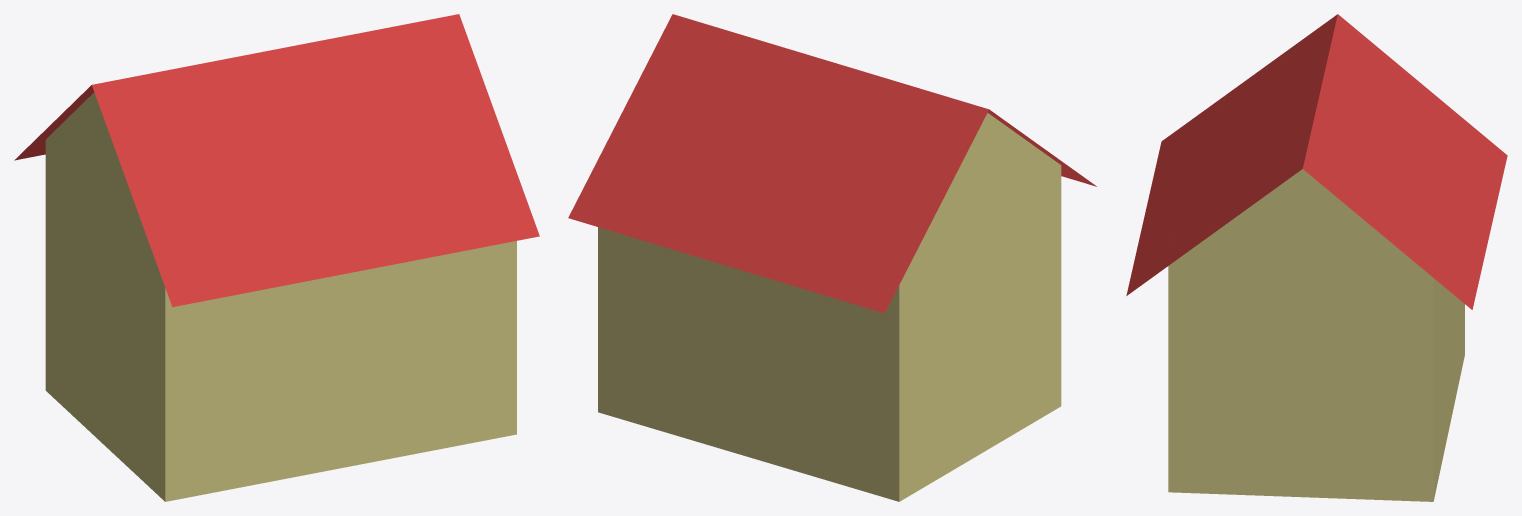
The picture shows the model from 3 angles, left to right: view 1: azimuth 30°, elevation 25°; view 2: azimuth 150°, elevation 25°; view 3: azimuth 270°, elevation 25°; orthographic projection. The views are drawn at different scales.
Bounding box in the file's own units: 13.85 × 13.21 × 12.63.
